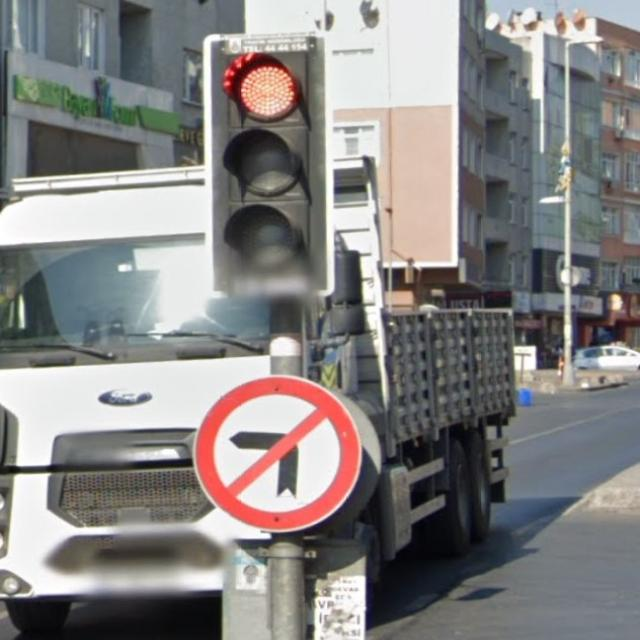kirmizi: (204, 33, 331, 296)
soladonulmez: (196, 376, 360, 536)
